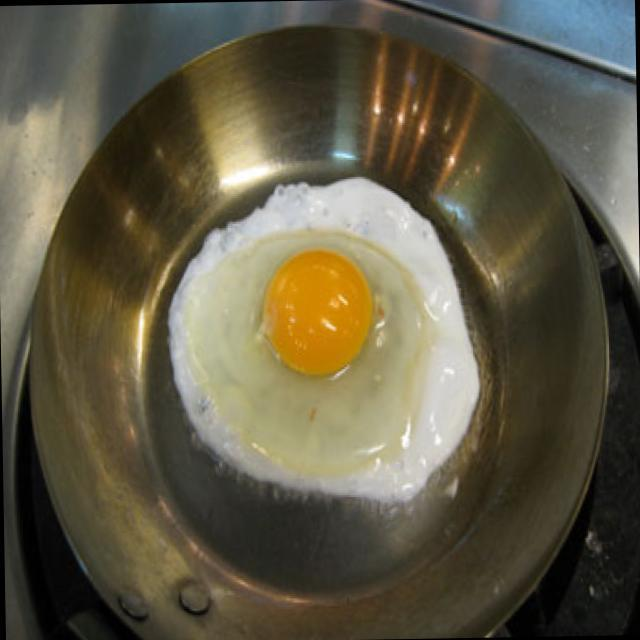Egg: (160, 161, 486, 522)
